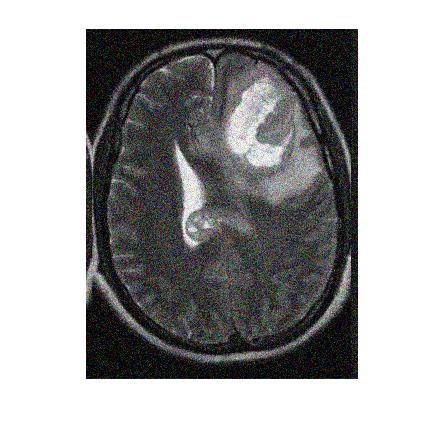Brain_Cancer: (227, 73, 292, 177)
